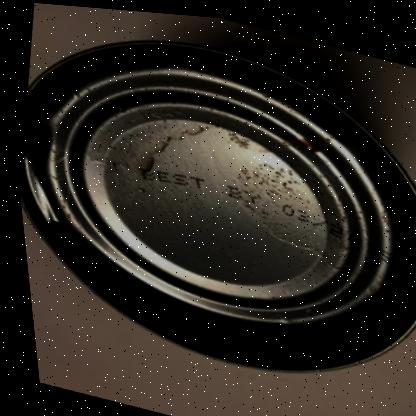Metal: (15, 36, 416, 365)
